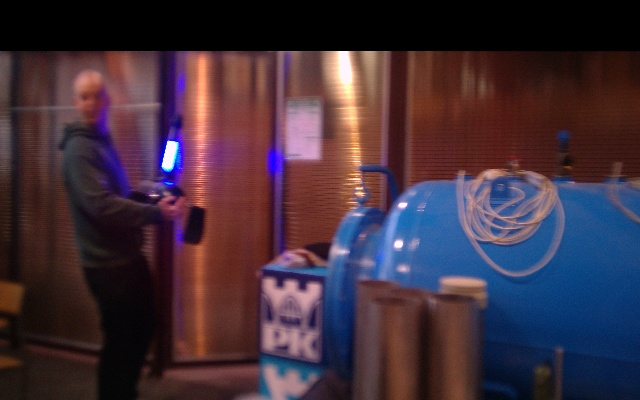blue: (161, 139, 178, 174)
